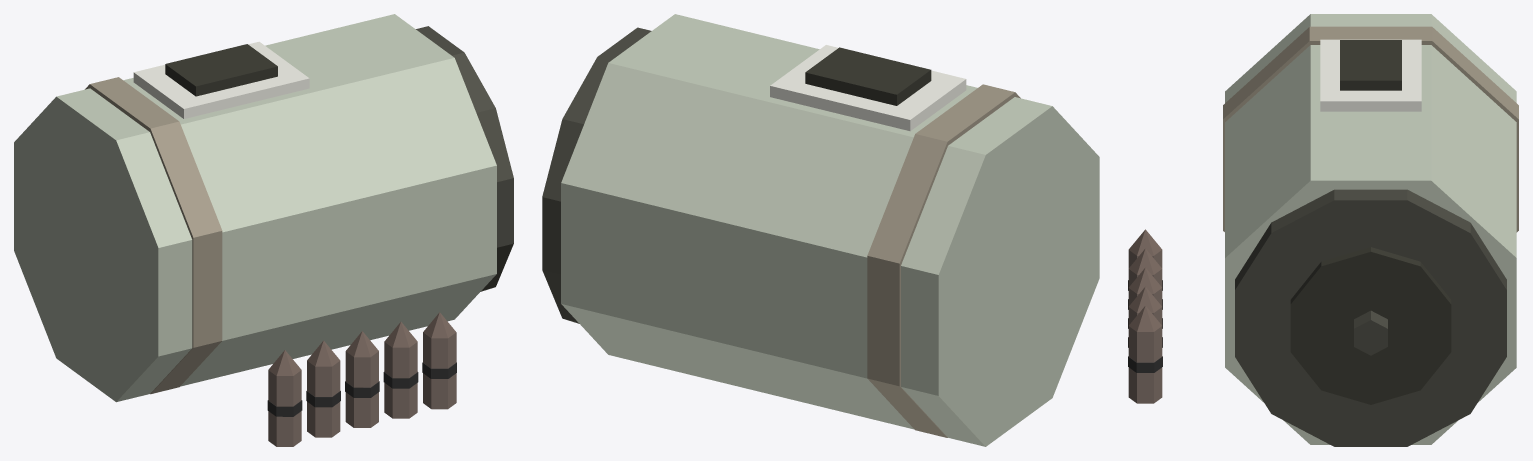
The model's file is ce_ammo_mechcells_mech_c.obj.
3 renders of one model, left to right at view 1: azimuth 30°, elevation 25°; view 2: azimuth 150°, elevation 25°; view 3: azimuth 270°, elevation 25°, orthographic. The views are drawn at different scales.
Parts seen in each view (by area): view 1: ce_ammo_mechcells_mech_c_0, ce_ammo_mechcells_mech_c_1, ce_ammo_mechcells_mech_c_5, ce_ammo_mechcells_mech_c_2, ce_ammo_mechcells_mech_c_6, ce_ammo_mechcells_mech_c_16, ce_ammo_mechcells_mech_c_19, ce_ammo_mechcells_mech_c_10, ce_ammo_mechcells_mech_c_7, ce_ammo_mechcells_mech_c_13, ce_ammo_mechcells_mech_c_15, ce_ammo_mechcells_mech_c_21 (+3 smaller); view 2: ce_ammo_mechcells_mech_c_0, ce_ammo_mechcells_mech_c_1, ce_ammo_mechcells_mech_c_5, ce_ammo_mechcells_mech_c_2, ce_ammo_mechcells_mech_c_6; view 3: ce_ammo_mechcells_mech_c_0, ce_ammo_mechcells_mech_c_2, ce_ammo_mechcells_mech_c_3, ce_ammo_mechcells_mech_c_1, ce_ammo_mechcells_mech_c_5, ce_ammo_mechcells_mech_c_6, ce_ammo_mechcells_mech_c_19, ce_ammo_mechcells_mech_c_4, ce_ammo_mechcells_mech_c_21, ce_ammo_mechcells_mech_c_9, ce_ammo_mechcells_mech_c_15, ce_ammo_mechcells_mech_c_18 (+2 smaller).
Boxes of the visible parts, bbox=[...] form: ce_ammo_mechcells_mech_c_0: bbox=[14, 14, 496, 402]; ce_ammo_mechcells_mech_c_1: bbox=[85, 77, 222, 394]; ce_ammo_mechcells_mech_c_5: bbox=[133, 41, 309, 118]; ce_ammo_mechcells_mech_c_2: bbox=[416, 26, 513, 291]; ce_ammo_mechcells_mech_c_6: bbox=[165, 44, 277, 96]; ce_ammo_mechcells_mech_c_16: bbox=[384, 342, 417, 418]; ce_ammo_mechcells_mech_c_19: bbox=[423, 332, 456, 409]; ce_ammo_mechcells_mech_c_10: bbox=[307, 361, 340, 437]; ce_ammo_mechcells_mech_c_7: bbox=[268, 370, 301, 446]; ce_ammo_mechcells_mech_c_13: bbox=[345, 351, 378, 427]; ce_ammo_mechcells_mech_c_15: bbox=[346, 331, 378, 357]; ce_ammo_mechcells_mech_c_21: bbox=[423, 312, 455, 338]; ce_ammo_mechcells_mech_c_0: bbox=[561, 14, 1099, 446]; ce_ammo_mechcells_mech_c_1: bbox=[867, 84, 1020, 437]; ce_ammo_mechcells_mech_c_5: bbox=[770, 45, 966, 131]; ce_ammo_mechcells_mech_c_2: bbox=[542, 27, 651, 323]; ce_ammo_mechcells_mech_c_6: bbox=[805, 47, 931, 105]; ce_ammo_mechcells_mech_c_0: bbox=[1225, 14, 1516, 444]; ce_ammo_mechcells_mech_c_2: bbox=[1235, 189, 1506, 446]; ce_ammo_mechcells_mech_c_3: bbox=[1290, 247, 1451, 404]; ce_ammo_mechcells_mech_c_1: bbox=[1223, 26, 1518, 232]; ce_ammo_mechcells_mech_c_5: bbox=[1320, 39, 1421, 111]; ce_ammo_mechcells_mech_c_6: bbox=[1340, 40, 1401, 90]; ce_ammo_mechcells_mech_c_19: bbox=[1128, 326, 1162, 403]; ce_ammo_mechcells_mech_c_4: bbox=[1354, 310, 1387, 355]; ce_ammo_mechcells_mech_c_21: bbox=[1129, 305, 1161, 331]; ce_ammo_mechcells_mech_c_9: bbox=[1128, 229, 1162, 255]; ce_ammo_mechcells_mech_c_15: bbox=[1128, 267, 1161, 293]; ce_ammo_mechcells_mech_c_18: bbox=[1129, 286, 1161, 312].
Bounding box in the file's own units: 0.805 × 0.5574 × 0.6936.
